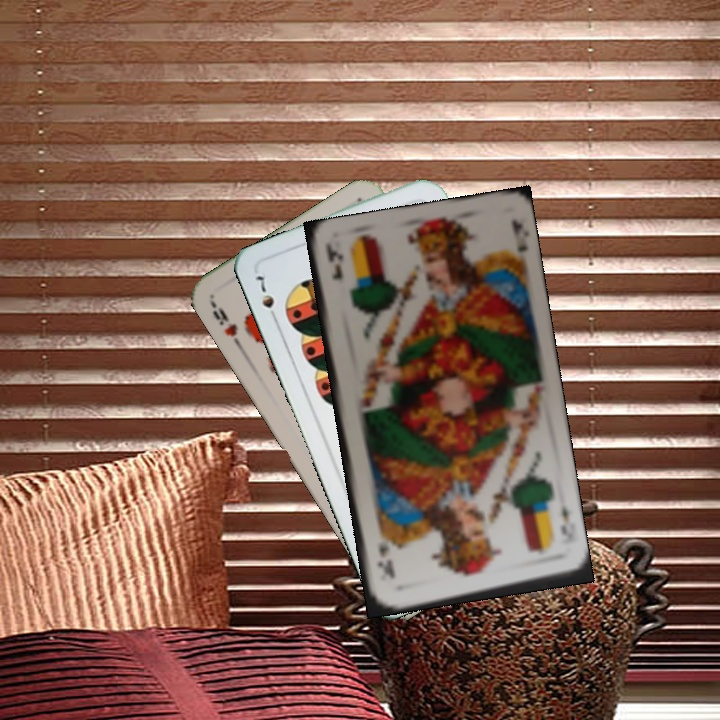EK: (322, 244, 346, 283), (555, 499, 572, 546)
H9: (207, 298, 246, 352)
S7: (252, 271, 281, 326)
